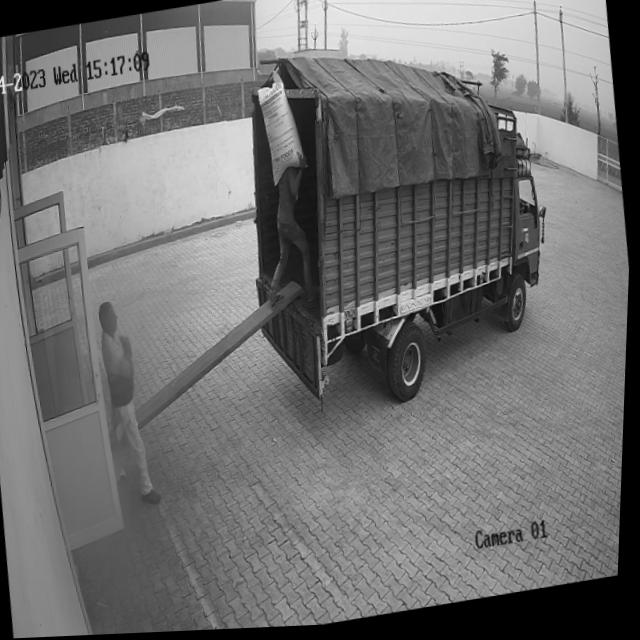sack: (252, 68, 309, 189)
